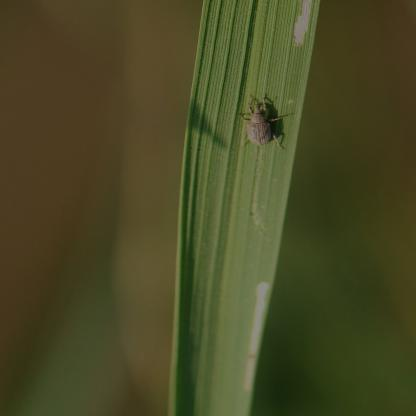rice-bug: (241, 92, 289, 146)
